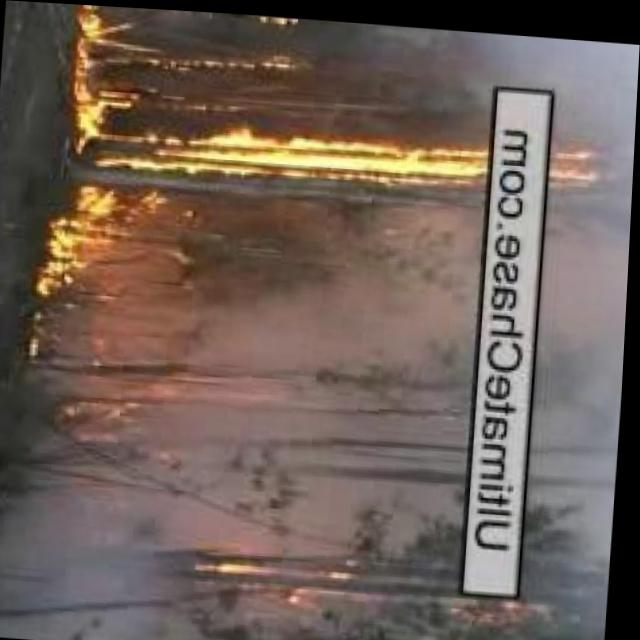Fire: (75, 117, 622, 187), (43, 193, 171, 306), (71, 3, 117, 74)
